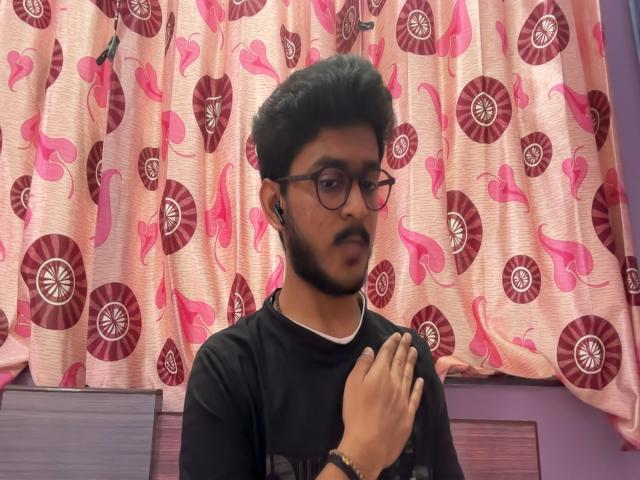Please: (326, 317, 432, 480)
